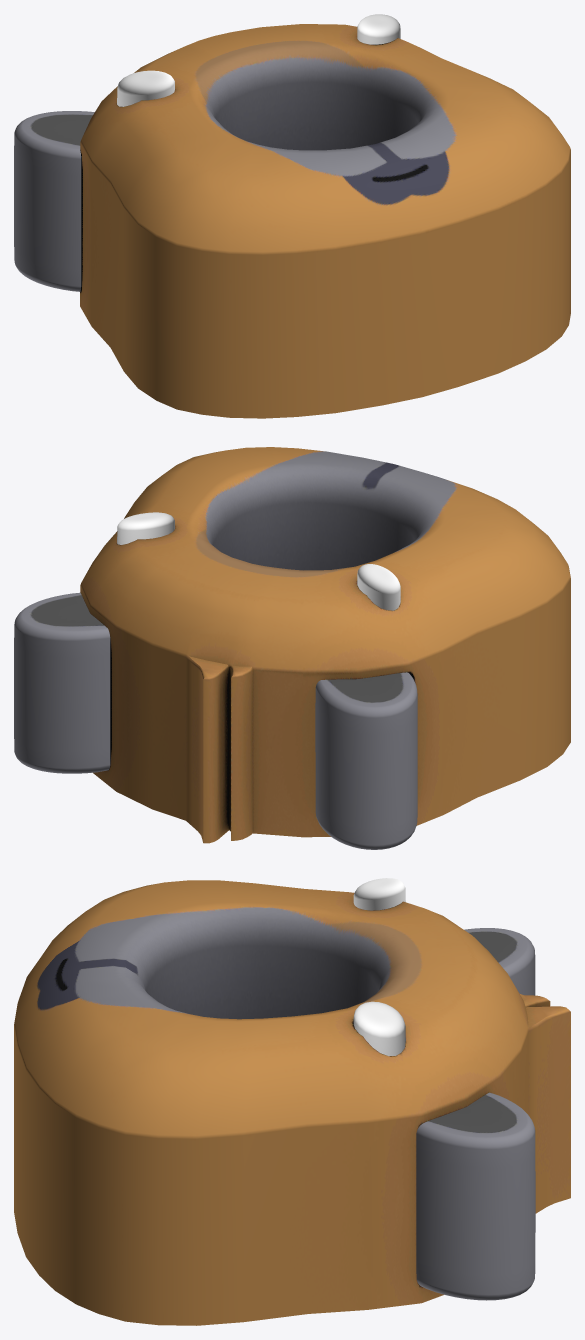
File: capybara_0.fbx
3 renders of one model, top to bottom at view 1: azimuth 30°, elevation 25°; view 2: azimuth 150°, elevation 25°; view 3: azimuth 270°, elevation 25°, orthographic. The views are drawn at different scales.
Parts seen in each view (by area): view 1: panda, ear, eyes1; view 2: panda, ear, eyes1; view 3: panda, ear, eyes1.
Boxes of the visible parts, bbox=[...] form: panda: bbox=[80, 24, 570, 418]; ear: bbox=[14, 111, 94, 291]; eyes1: bbox=[117, 14, 400, 106]; panda: bbox=[80, 447, 570, 843]; ear: bbox=[14, 592, 417, 849]; eyes1: bbox=[117, 512, 400, 610]; panda: bbox=[14, 880, 570, 1325]; ear: bbox=[416, 928, 535, 1300]; eyes1: bbox=[353, 878, 405, 1056].
Bounding box in the file's own units: 0.4324 × 0.2348 × 0.4462.
3 materials, 2 textured.
